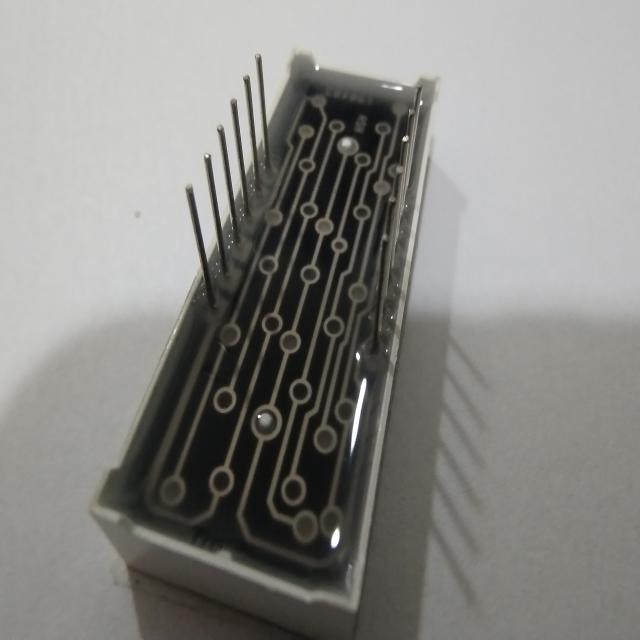7_segments_4_digits: (88, 31, 450, 640)
